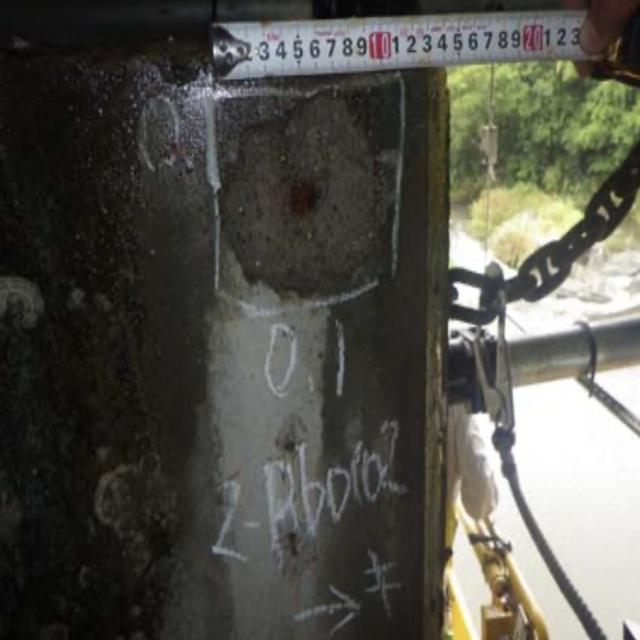spalling: (213, 100, 404, 316)
